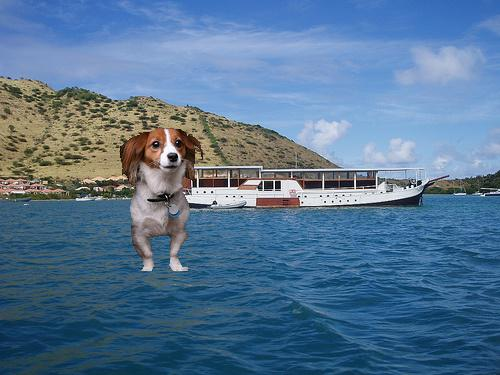tampered: (121, 129, 203, 271)
